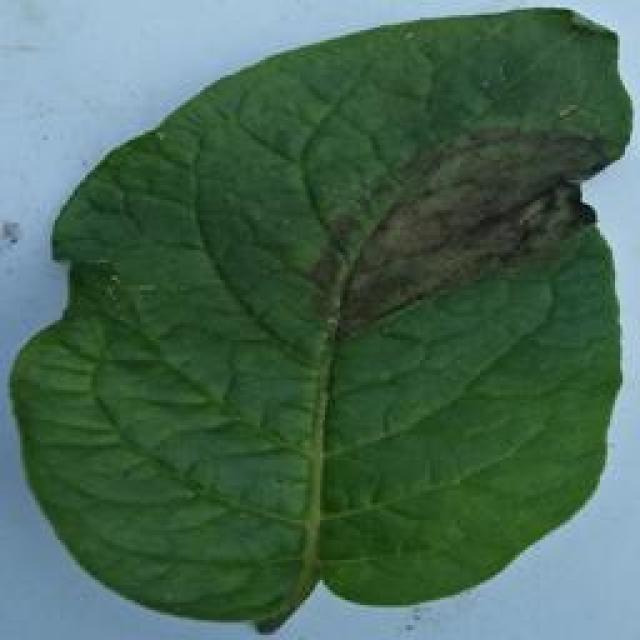Potato_Late_Blight: (14, 10, 623, 631)
